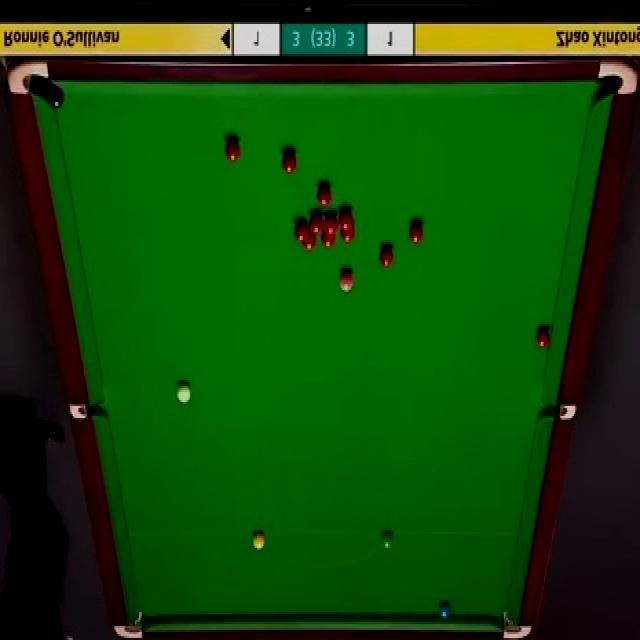pocket: (597, 55, 639, 97), (6, 62, 49, 98), (112, 609, 146, 640), (500, 608, 532, 640), (70, 403, 106, 419), (541, 405, 576, 420)
